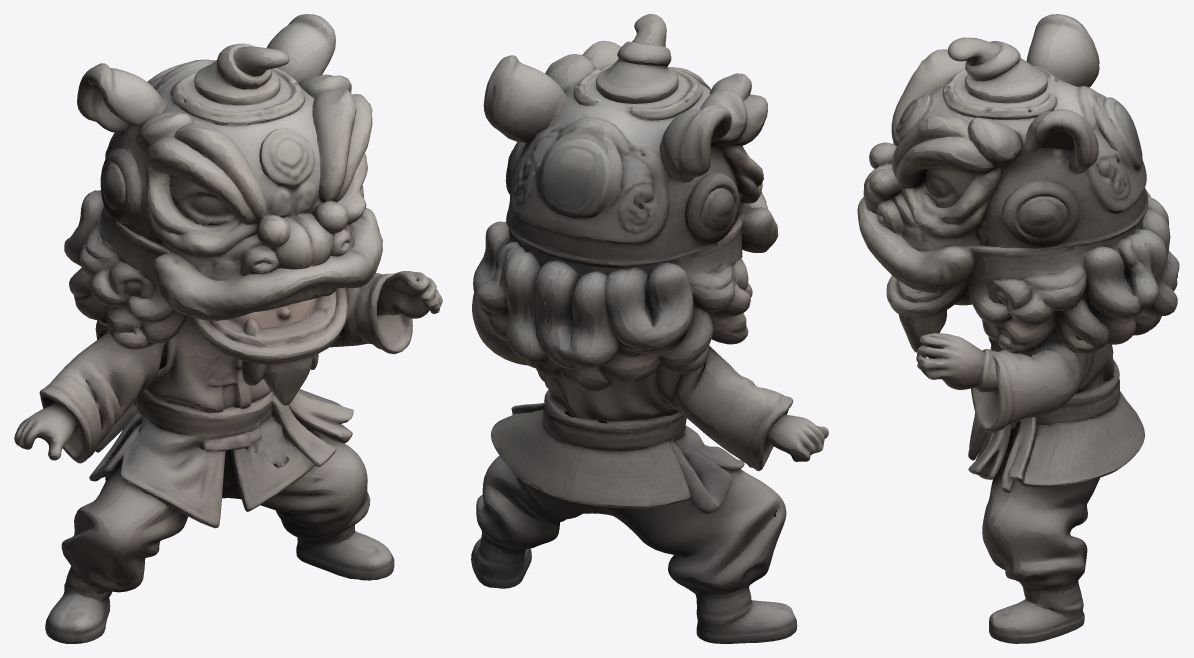
3 views of the same model, side by side, from view 1: azimuth 30°, elevation 25°; view 2: azimuth 150°, elevation 25°; view 3: azimuth 270°, elevation 25° (orthographic). The views are drawn at different scales.
Parts seen in each view (by area): view 1: world; view 2: world; view 3: world.
Part boxes in pixels (x1,y1,x2,y2): world: (14,14,442,643); world: (471,14,828,643); world: (857,14,1179,643).
Size of the model in its own units: 0.1242 by 0.18 by 0.0982.
Materials: 1 (1 with a texture image).
